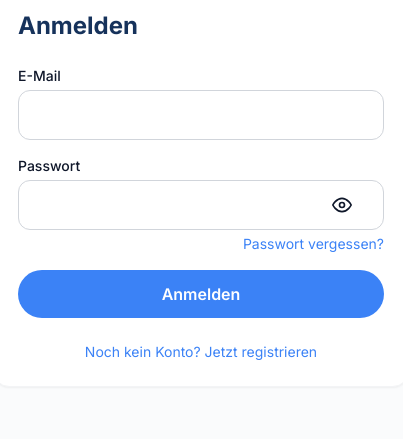
Scenario: LoginForm › zeigt eine Fehlermeldung bei falschen Zugangsdaten
Step 1. Type "test@example.com" into the field labelled "E-Mail" → (201, 115), box [18,90,384,140]
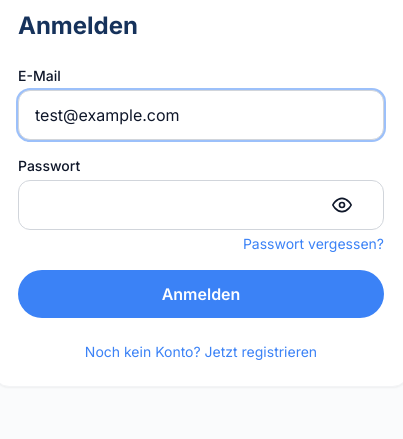
Step 2. Type "falsches-passwort" into the password field labelled "Passwort" → (201, 205), box [18,180,384,230]
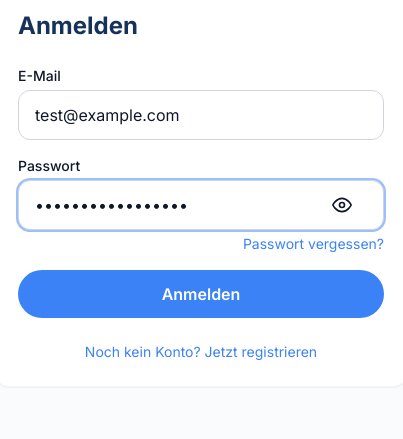
Step 3. Click the button "Anmelden" → click(201, 294), box [18,270,384,318]
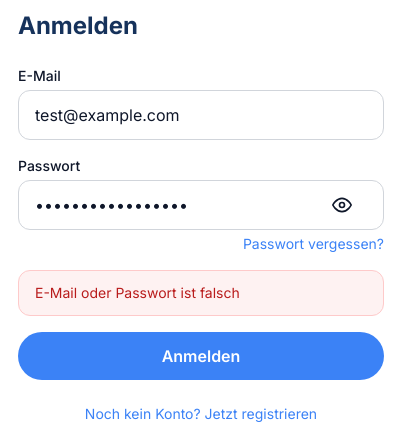
Now the text "E-Mail oder Passwort ist falsch" is shown, box [18,270,384,316]
